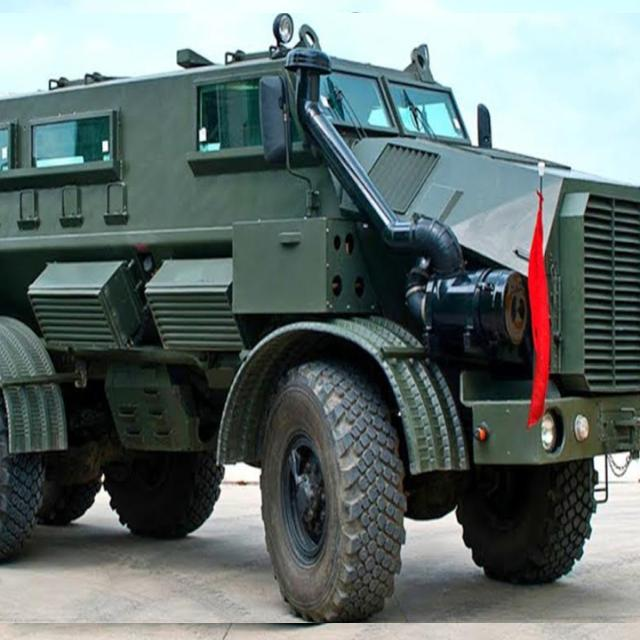truck: (0, 14, 640, 623)
